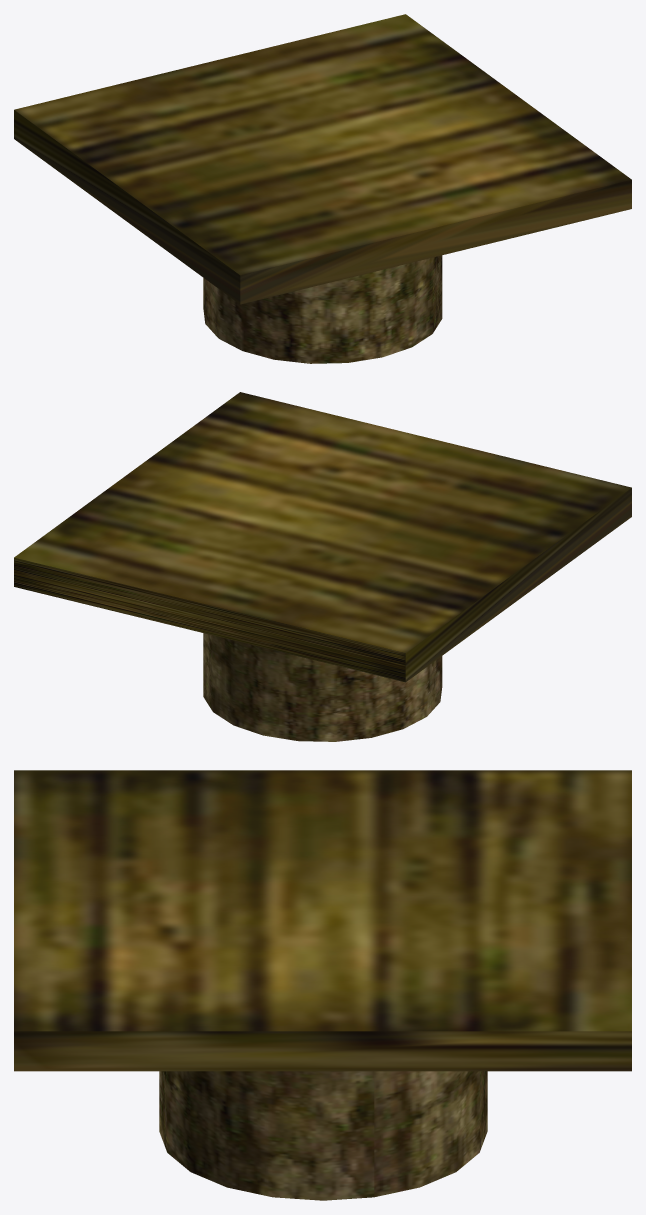
File: mesa.obj
3 renders of one model, top to bottom at view 1: azimuth 30°, elevation 25°; view 2: azimuth 150°, elevation 25°; view 3: azimuth 270°, elevation 25°, orthographic. The views are drawn at different scales.
Visible parts, largest first — view 1: pCube1, pCylinder1; view 2: pCube1, pCylinder1; view 3: pCube1, pCylinder1.
Boxes of the visible parts, <box> form: pCube1: <box>14,14,631,304</box>; pCylinder1: <box>203,255,442,363</box>; pCube1: <box>14,392,631,682</box>; pCylinder1: <box>203,633,442,741</box>; pCube1: <box>14,770,631,1071</box>; pCylinder1: <box>159,1071,487,1200</box>.
Bounding box in the file's own units: 0.5651 × 0.2326 × 0.5651.
Materials: 4 (3 with a texture image).
